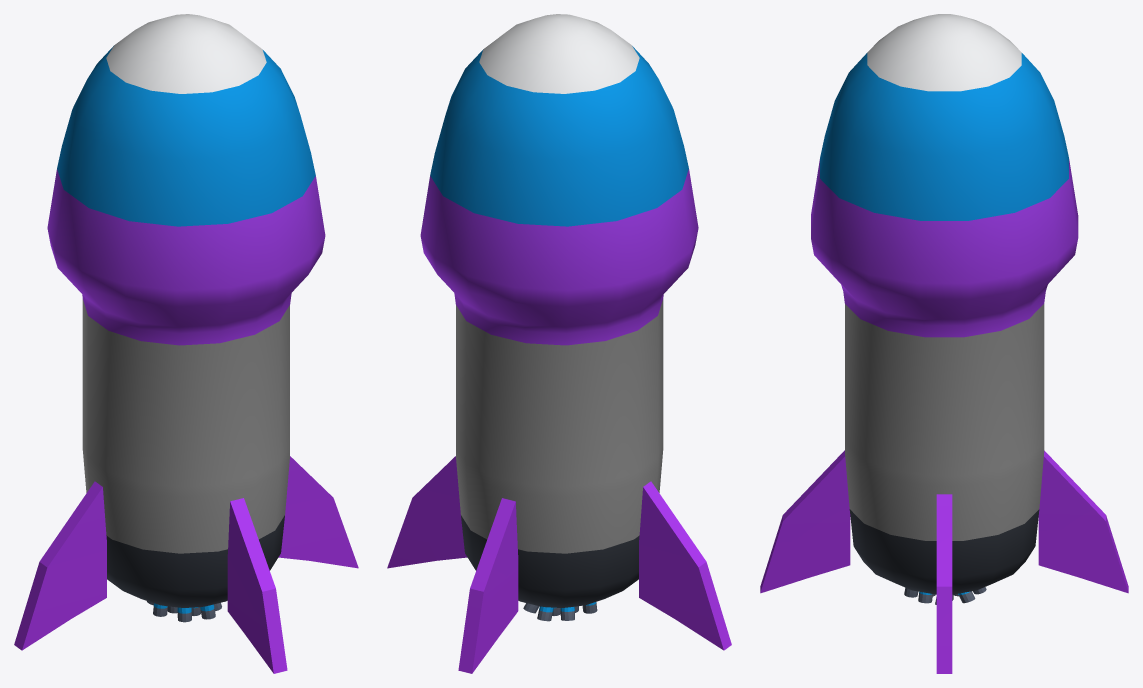
The model's file is F_P_Fireworks_5_2.FBX.
3 renders of one model, left to right at view 1: azimuth 30°, elevation 25°; view 2: azimuth 150°, elevation 25°; view 3: azimuth 270°, elevation 25°, orthographic. The views are drawn at different scales.
Visible parts, largest first — view 1: F_P_Fireworks_5_2; view 2: F_P_Fireworks_5_2; view 3: F_P_Fireworks_5_2.
Part boxes in pixels (x1,y1,x2,y2): F_P_Fireworks_5_2: [14, 14, 358, 673]; F_P_Fireworks_5_2: [387, 14, 731, 673]; F_P_Fireworks_5_2: [760, 14, 1128, 673].
Size of the model in its own units: 78.25 by 131 by 75.78.
